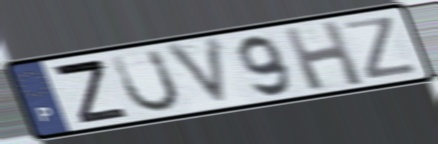9: (234, 32, 296, 98)
H: (279, 17, 368, 93)
U: (108, 47, 183, 115)
V: (161, 34, 234, 110)
Z: (49, 57, 132, 126), (341, 13, 422, 82)
